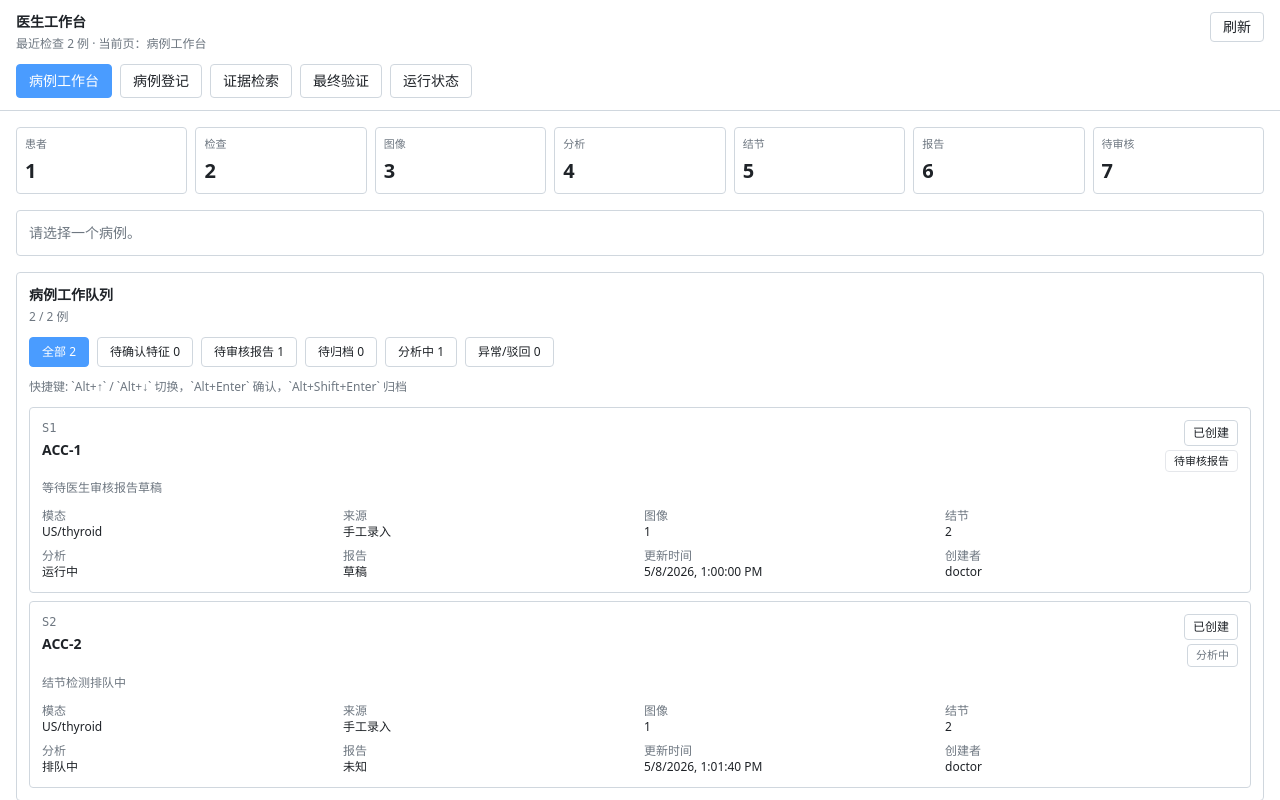
Test: MedicalPanel › auto-opens the first matching case when switching queue filters
The width and height of the screenshot is (1280, 800).
Expected: the heading "ACC-1" is shown, [42,440,82,460]
What coordinates should you click on to do the following:
click the button "分析中 1"
I would click on:
 (421, 352)
Its box is [385,336,457,366].
(page scrolled)
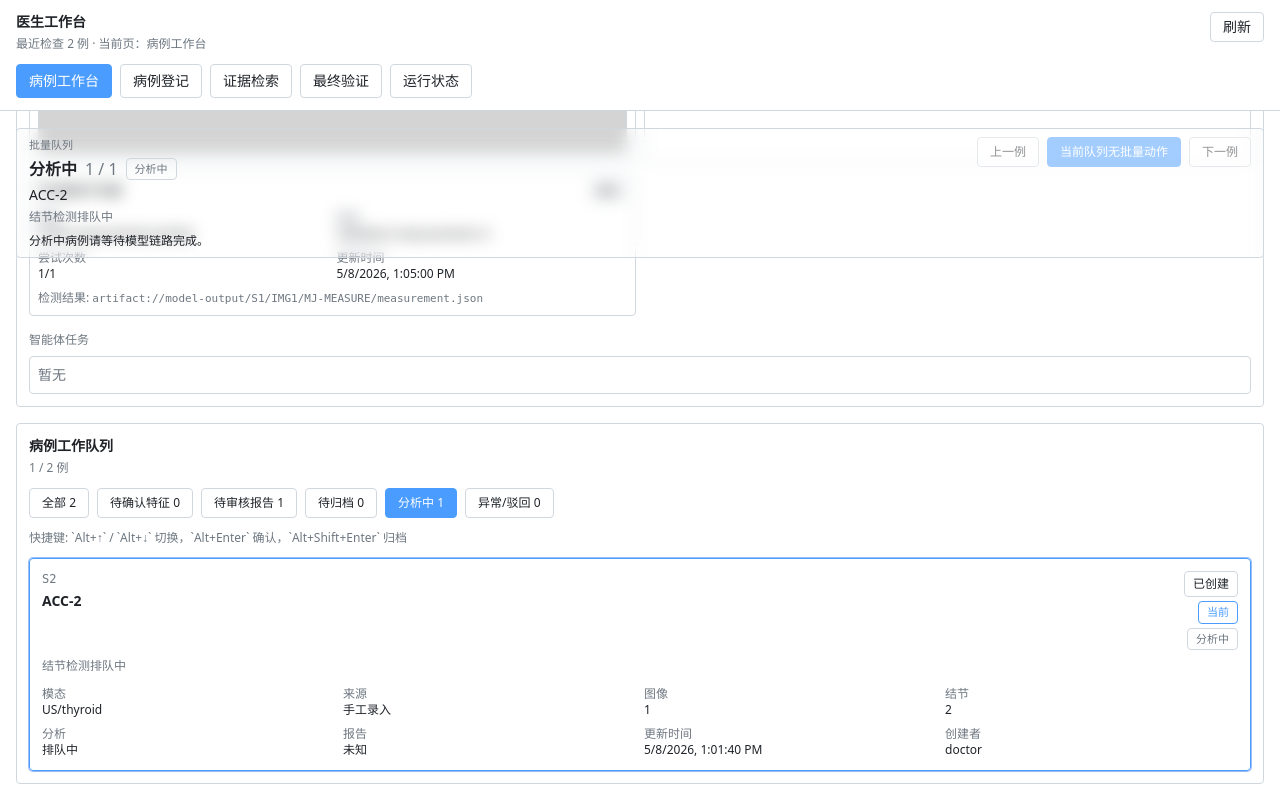
Expected: the text "当前" is shown, [1198,601,1238,624]
